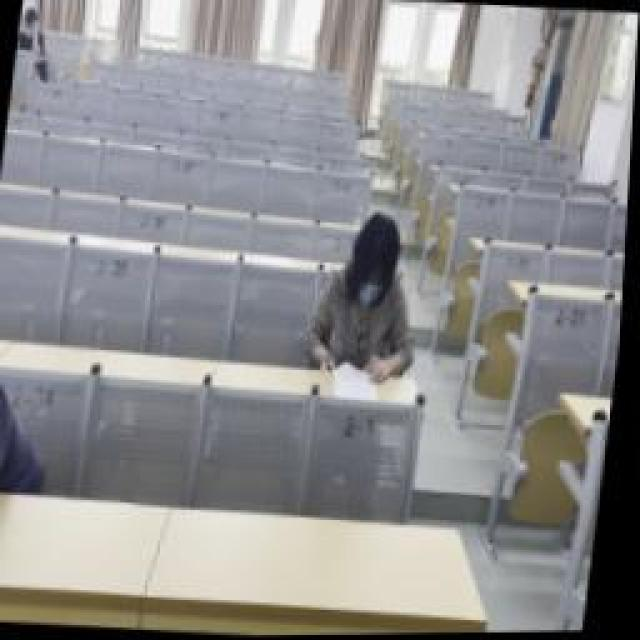study: (305, 210, 427, 385), (18, 5, 48, 53)
